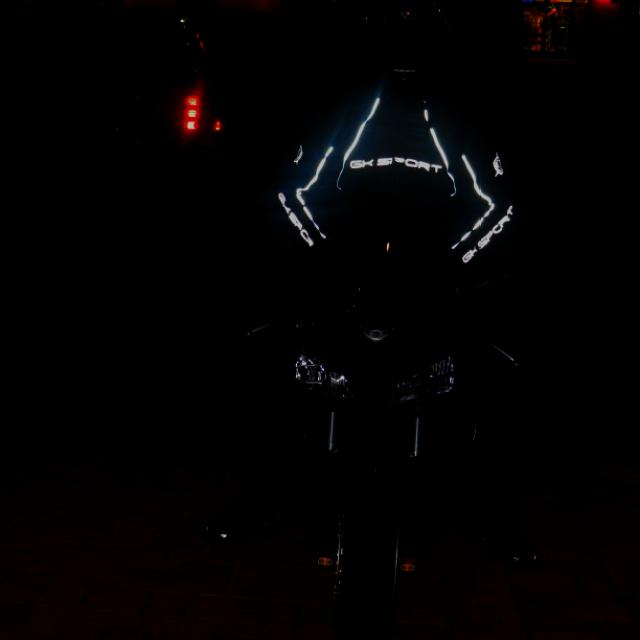Motorbike: (222, 162, 532, 640)
